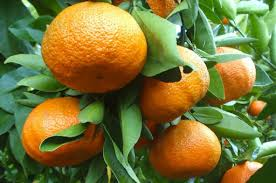orange: (39, 5, 150, 93), (20, 96, 106, 165), (142, 47, 210, 121), (143, 124, 223, 178), (203, 40, 258, 108), (218, 158, 269, 183)
